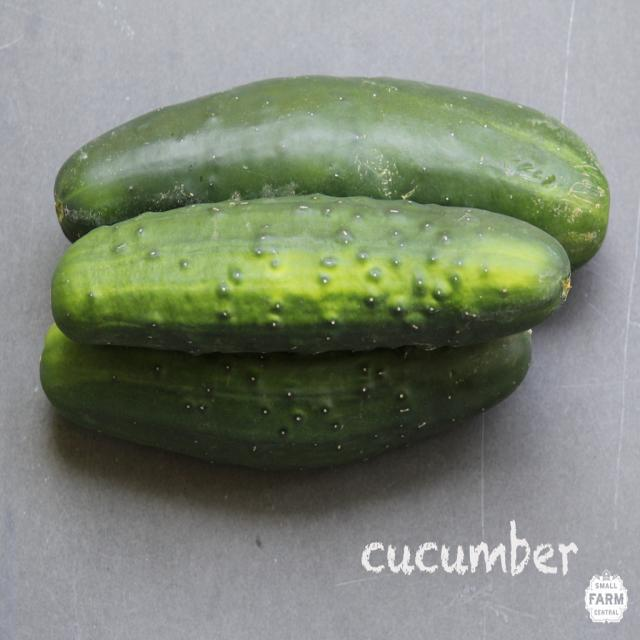Cucumber: (52, 70, 610, 270), (52, 193, 570, 359), (40, 324, 532, 468)
